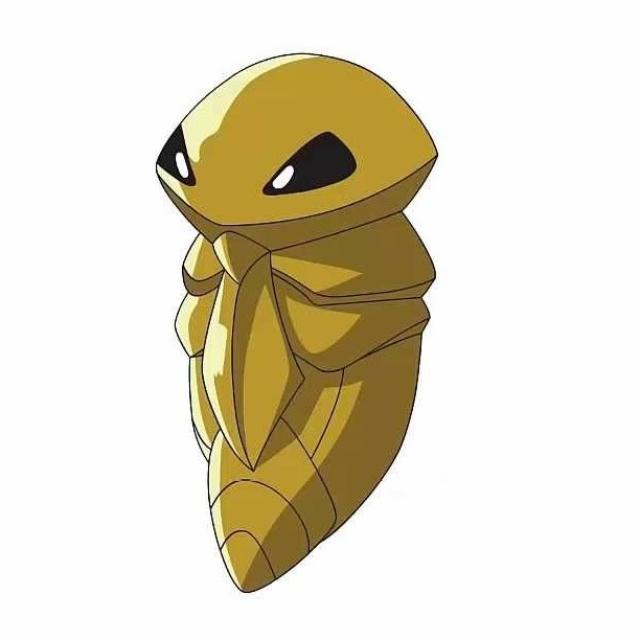Kakuna: (152, 47, 433, 535)
